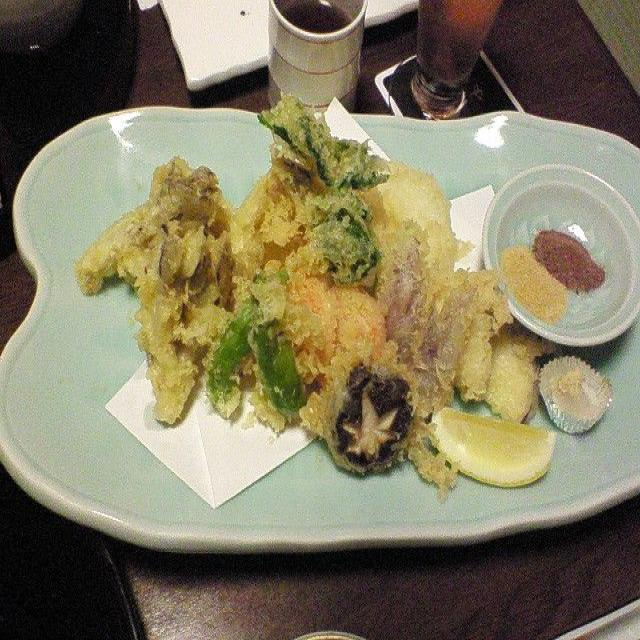蔬菜料理: (46, 109, 634, 508)
